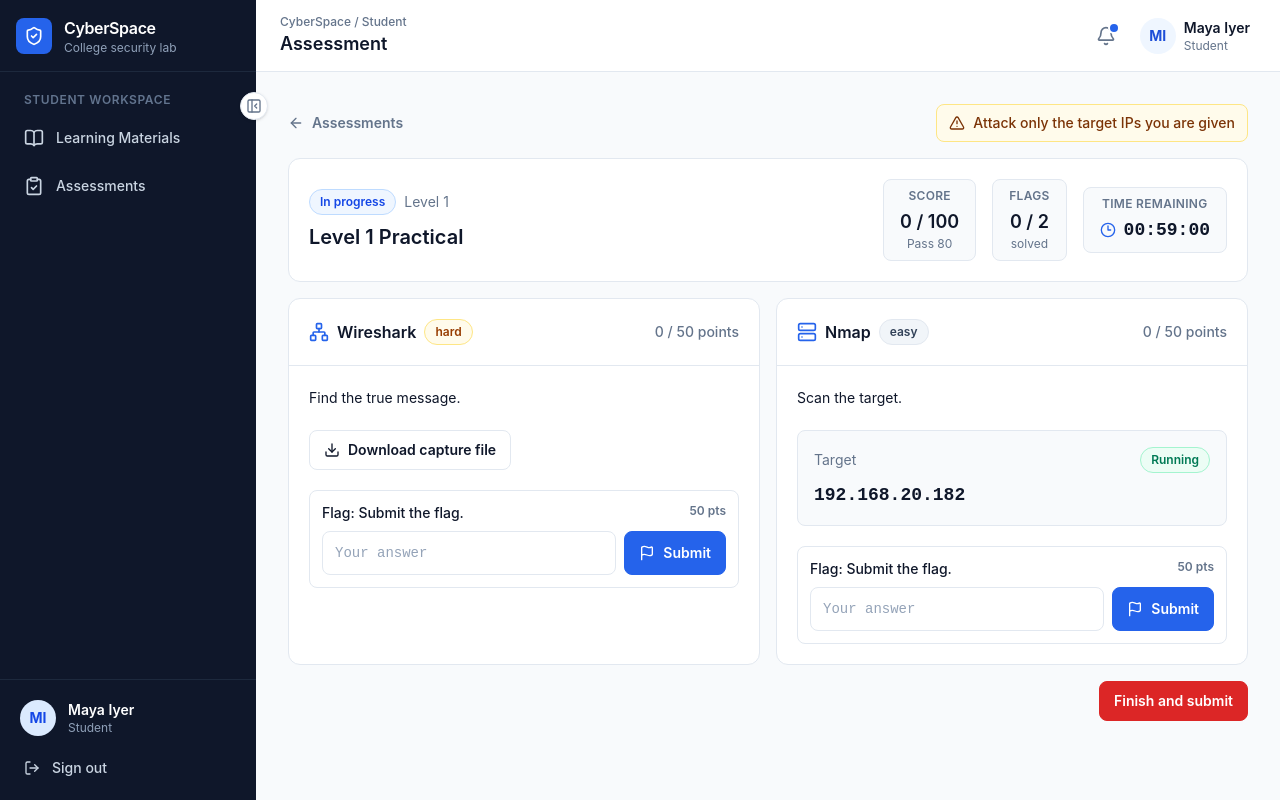
Test: student assessment flow › submits a flag and reports the points
Type "f7f4d1" into the field labelled "Flag: Submit the flag." below "192.168.20.182".
click(957, 609); type("f7f4d1")  # box [810,587,1104,631]
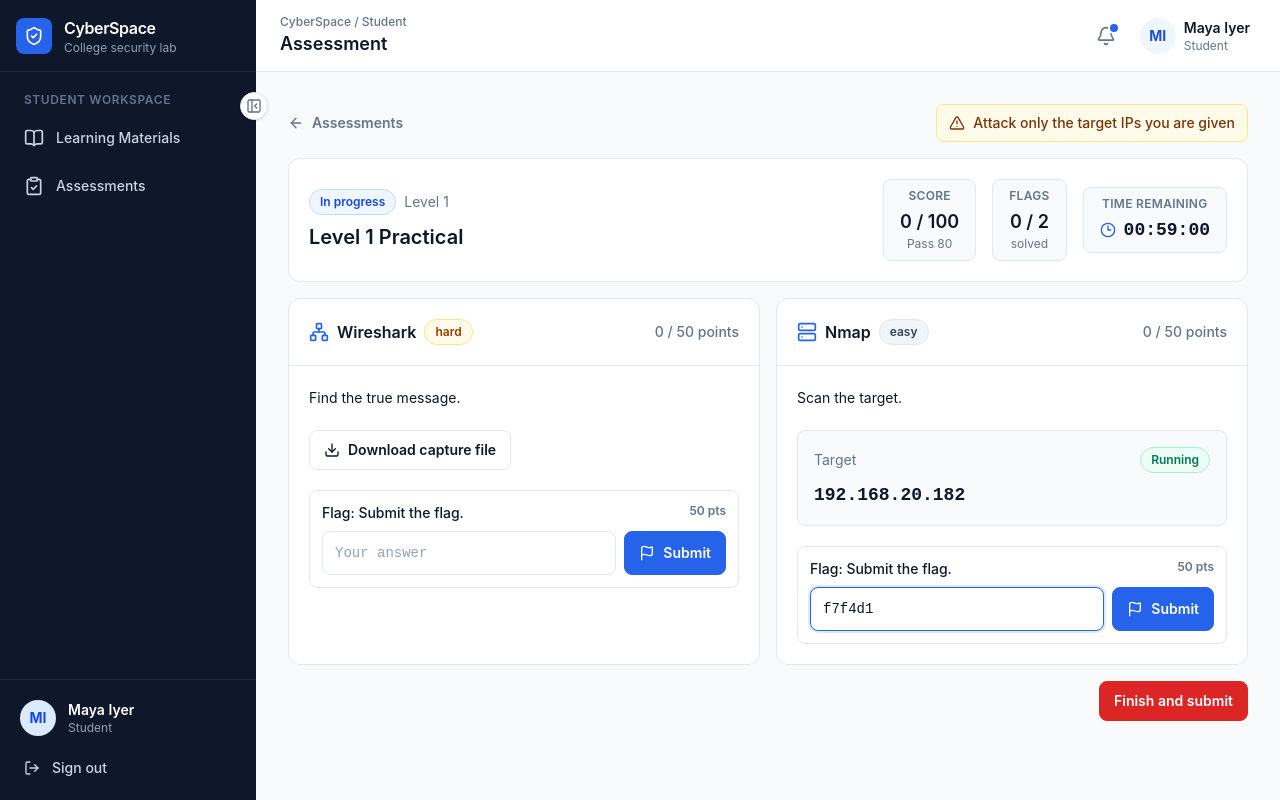
Click the button "Submit" below "192.168.20.182".
click(1163, 609)  # box [1112,587,1214,631]
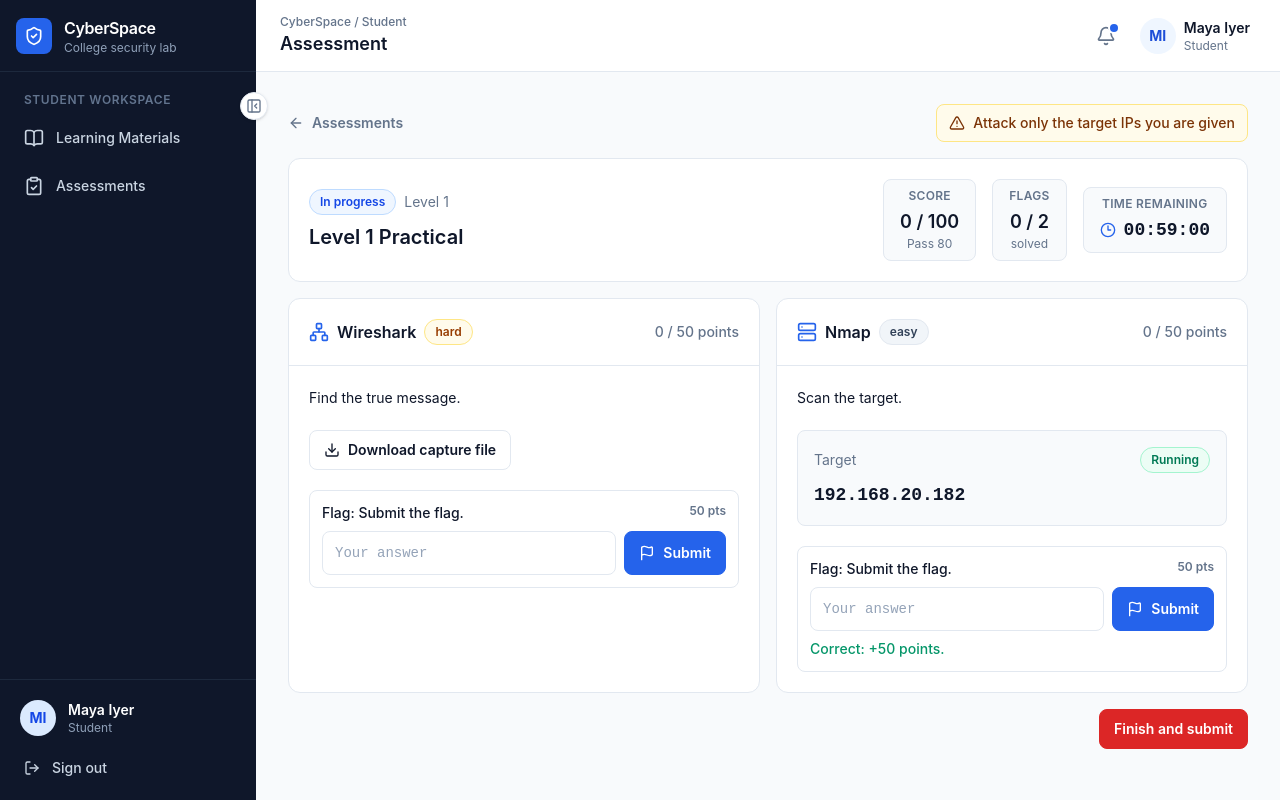
Expected: the text "Correct: +50 points." is shown, [810,640,945,657]
